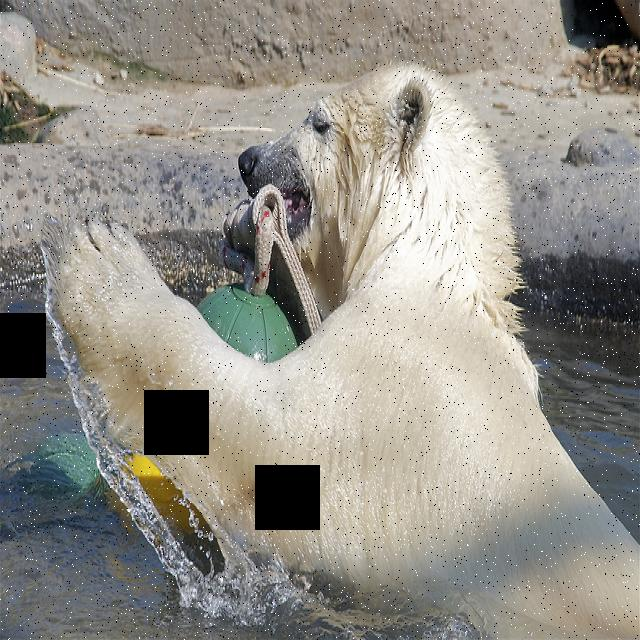Bear: (47, 52, 640, 640)
